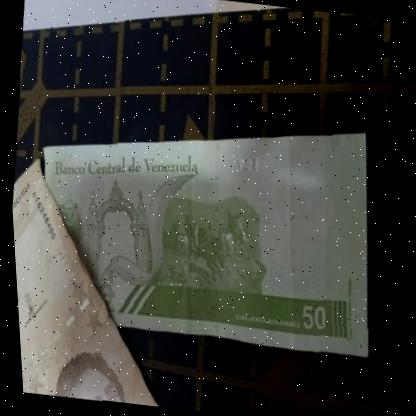fifty-back-vef: (15, 92, 391, 359)
